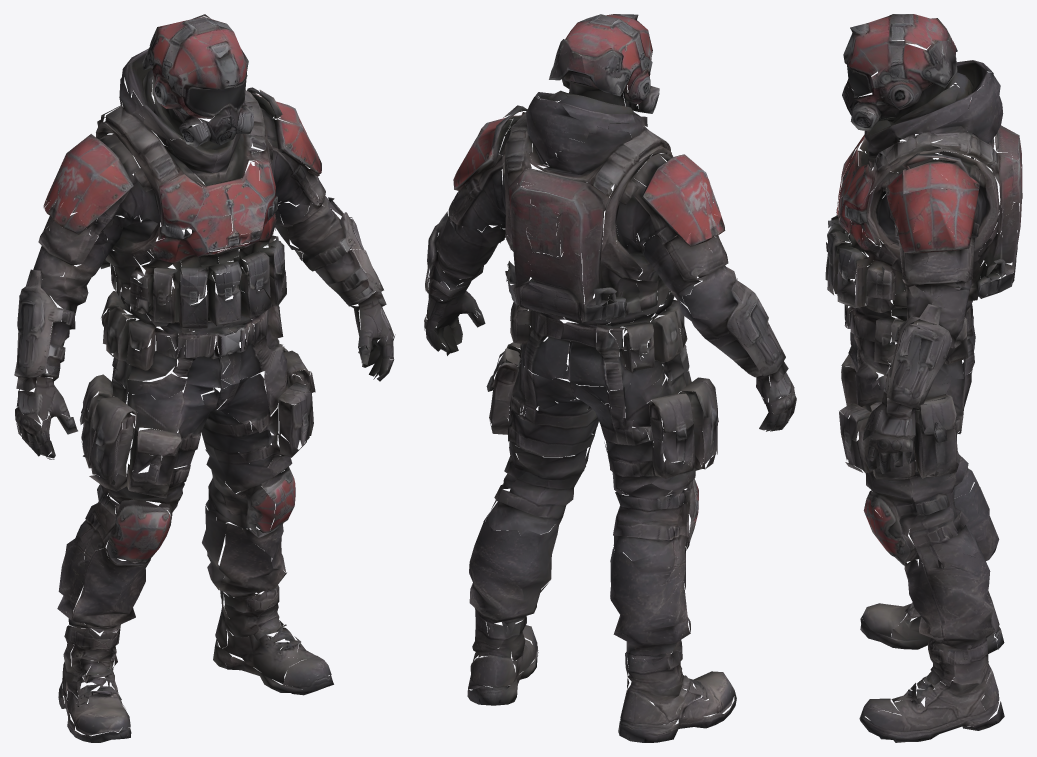
File: enemy-rifleman-v1.glb
The picture shows the model from 3 angles, left to right: view 1: azimuth 30°, elevation 25°; view 2: azimuth 150°, elevation 25°; view 3: azimuth 270°, elevation 25°; orthographic projection. The views are drawn at different scales.
Visible parts, largest first — view 1: enemy-rifleman; view 2: enemy-rifleman; view 3: enemy-rifleman.
Part boxes in pixels (x1,y1,x2,y2): enemy-rifleman: (14, 14, 395, 742); enemy-rifleman: (424, 14, 796, 742); enemy-rifleman: (825, 14, 1022, 742).
Bounding box in the file's own units: 1.03 × 1.82 × 0.4875.
Materials: 1 (1 with a texture image).
